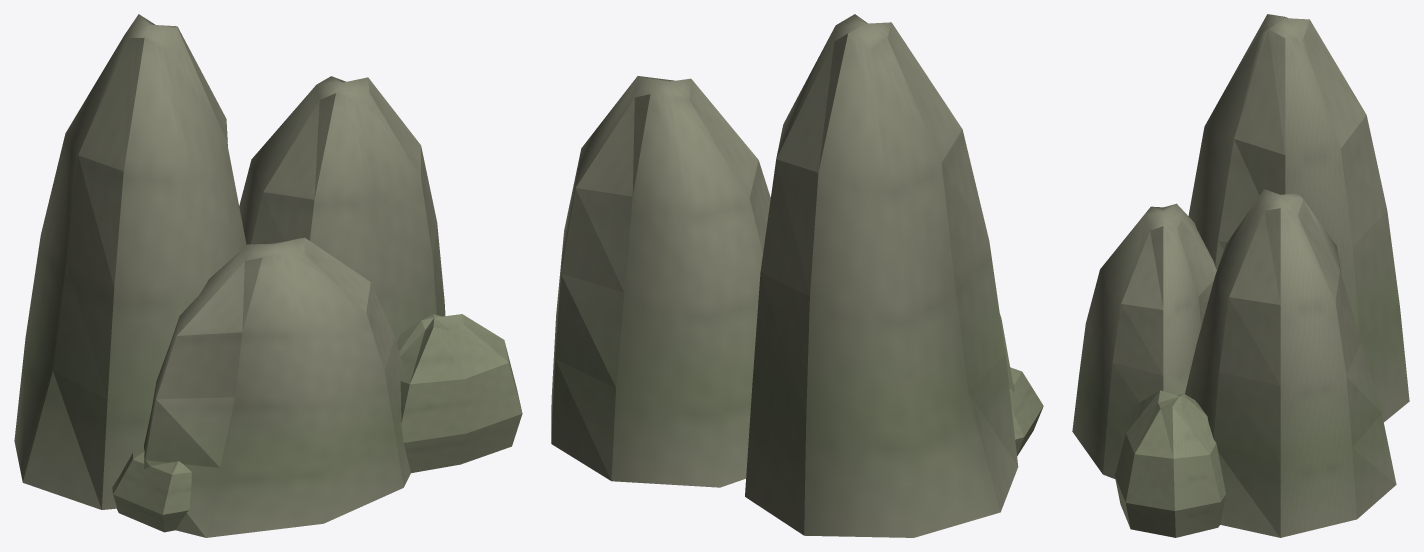
File: cliff-karst-lod1.glb
3 views of the same model, side by side, from view 1: azimuth 30°, elevation 25°; view 2: azimuth 150°, elevation 25°; view 3: azimuth 270°, elevation 25° (orthographic). The views are drawn at different scales.
Bounding box in the file's own units: 0.4773 × 0.45 × 0.3544.
1 material, 1 textured.
